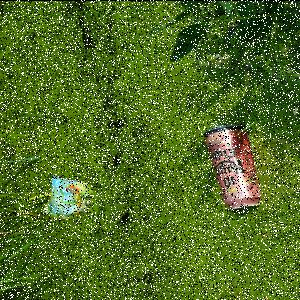Can: (205, 123, 263, 213)
Trash: (44, 174, 94, 220)
